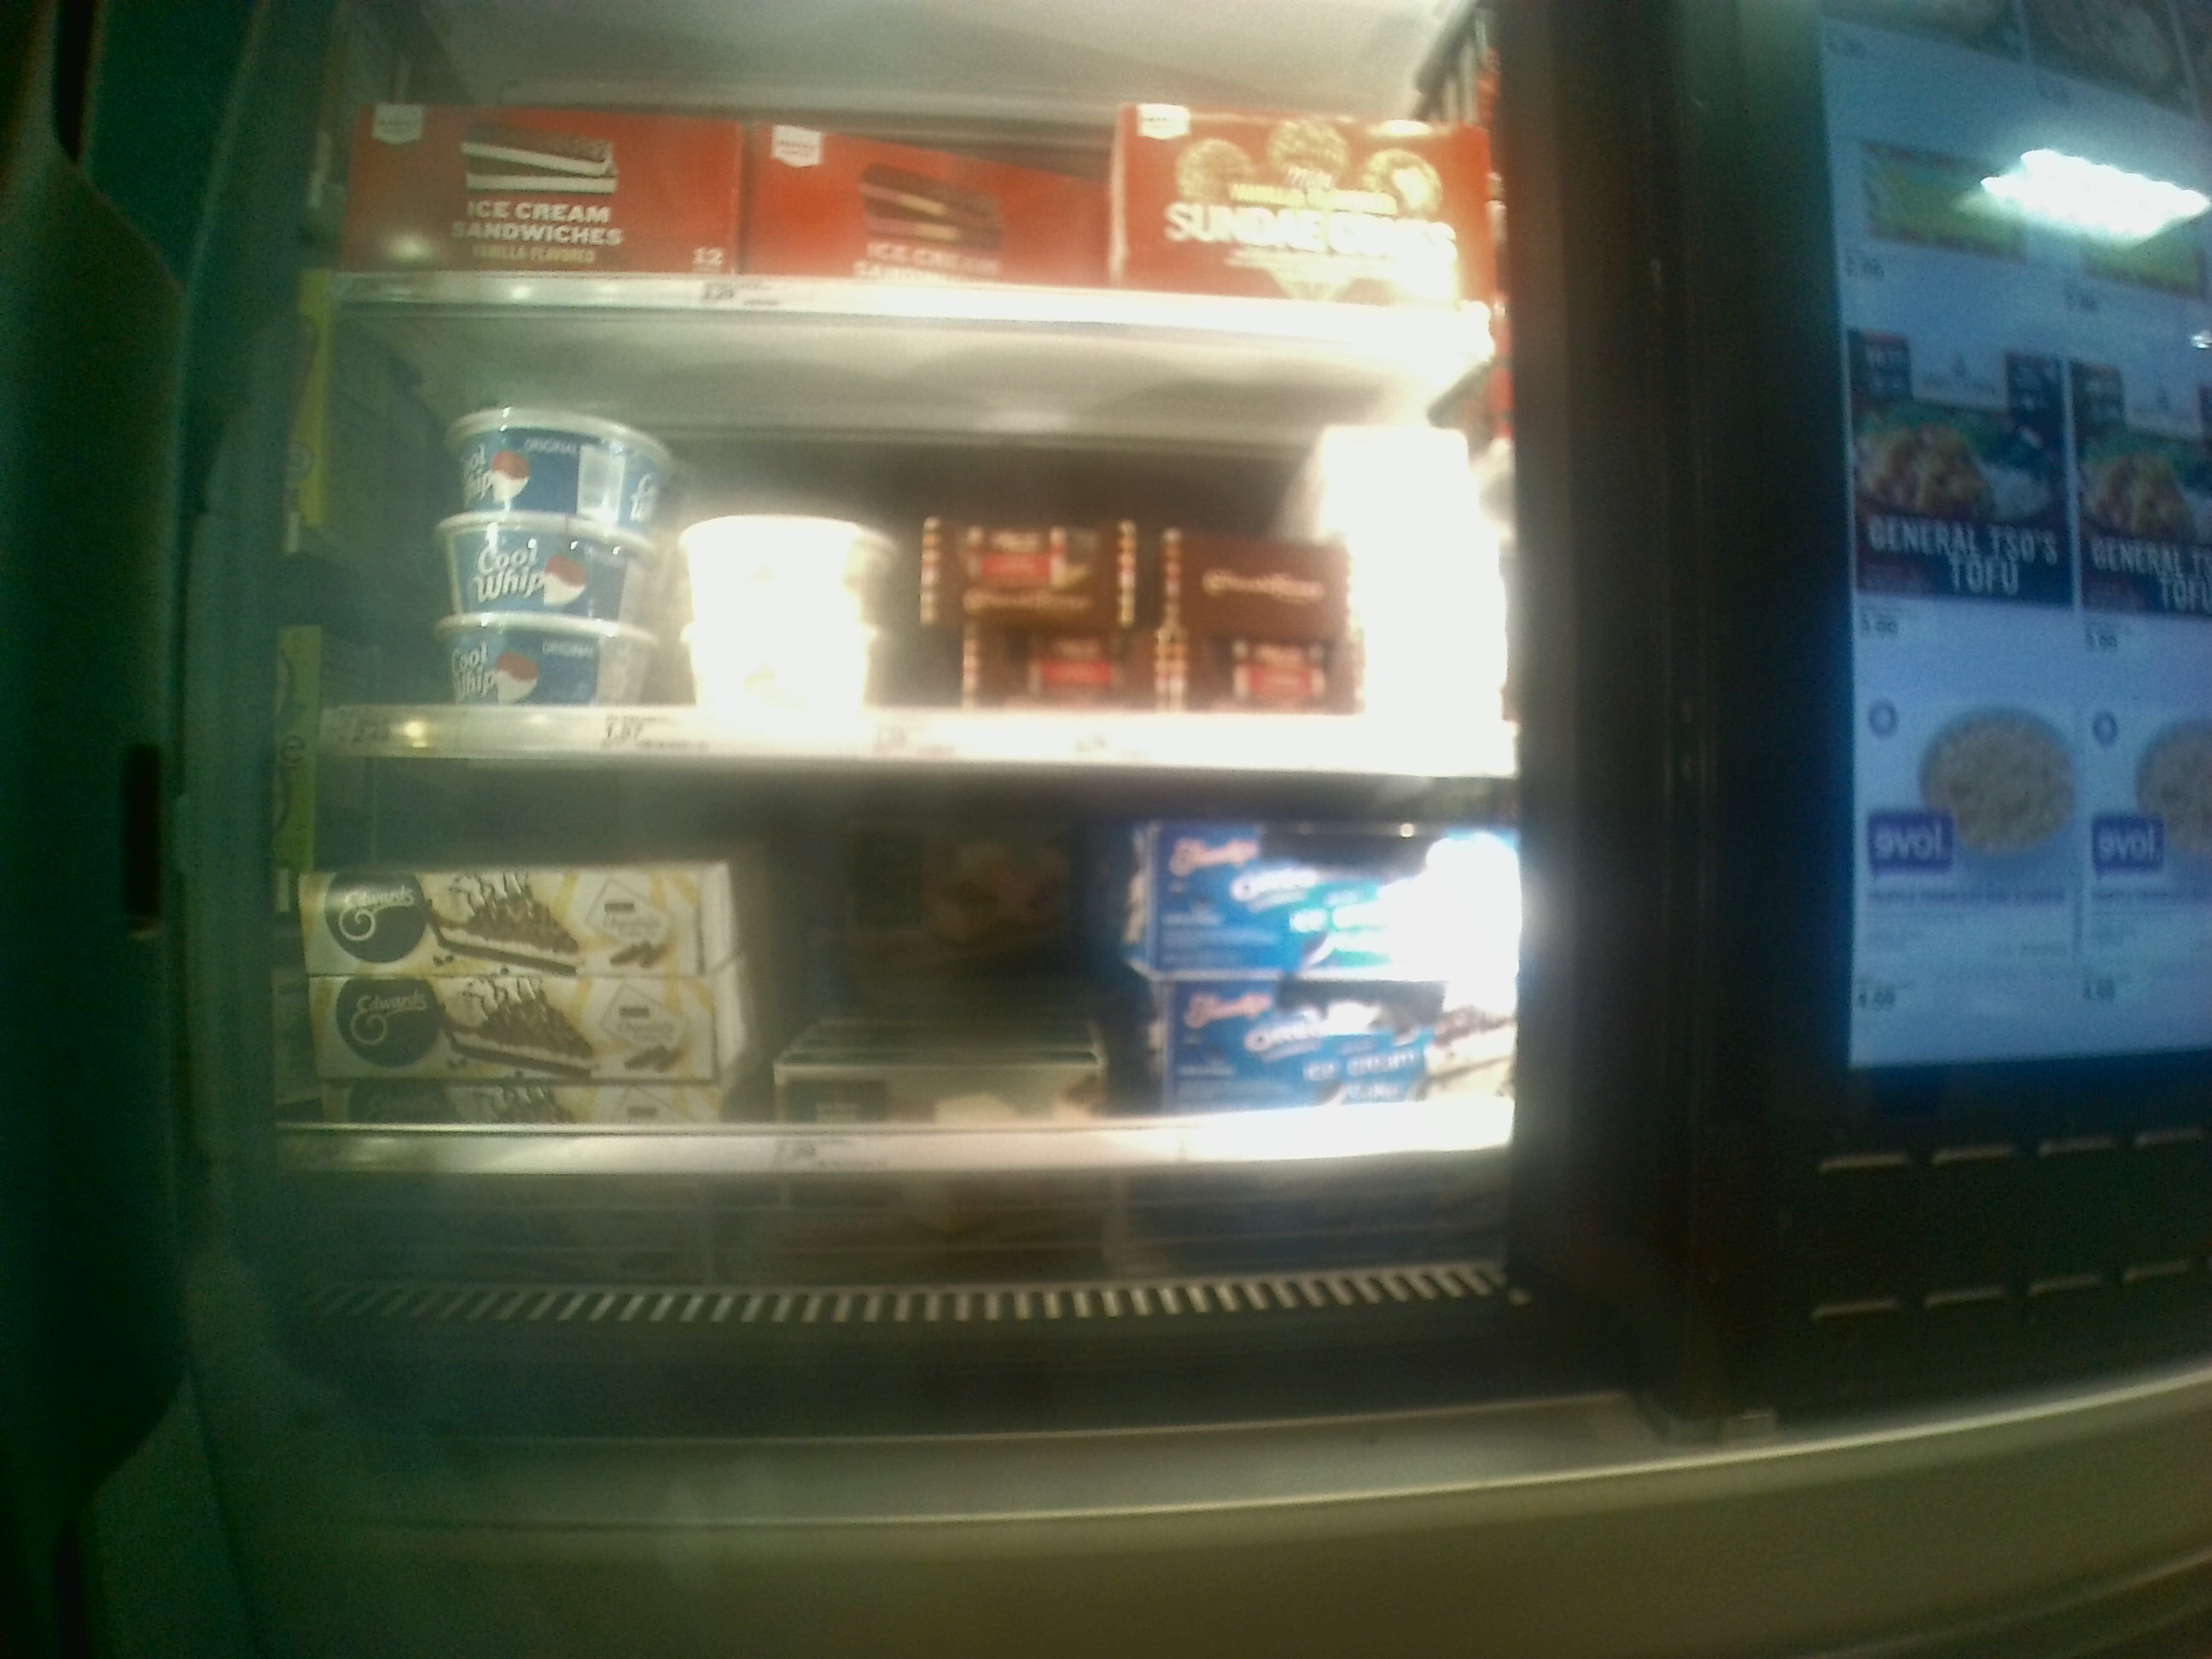frozen-food-shelf: (298, 347, 1521, 784), (268, 784, 1548, 1180)
